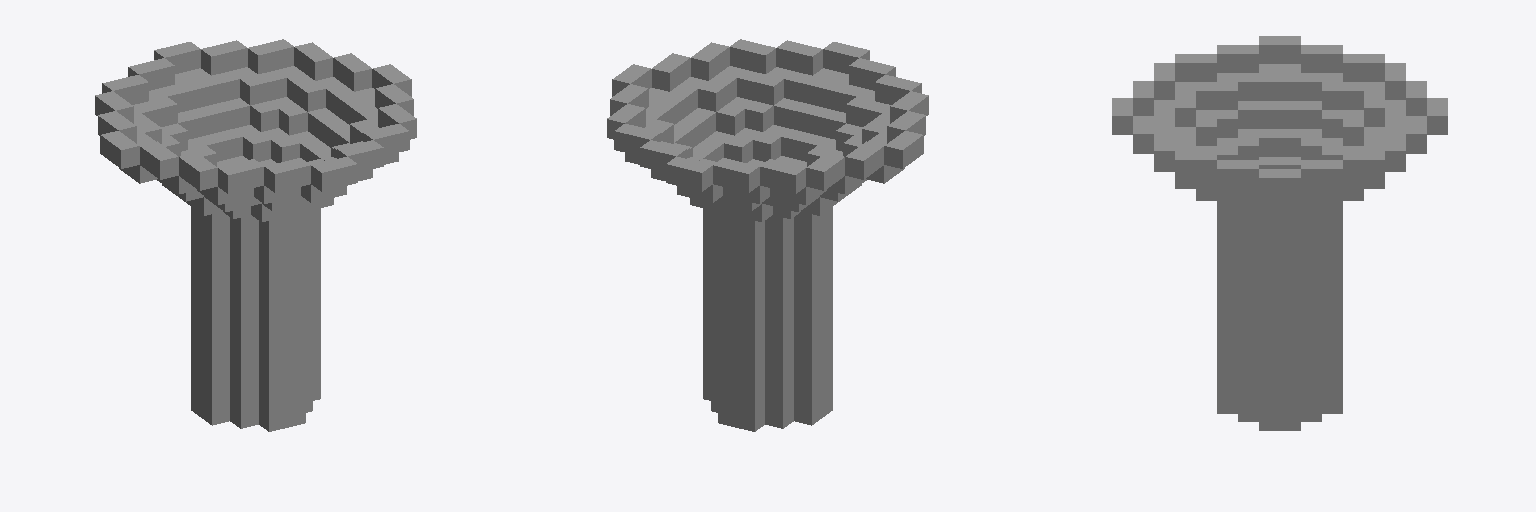
The model's file is st_pillar_base_inv_corr.obj.
3 views of the same model, side by side, from view 1: azimuth 30°, elevation 25°; view 2: azimuth 150°, elevation 25°; view 3: azimuth 270°, elevation 25° (orthographic).
Parts seen in each view (by area): view 1: st_pillar_base; view 2: st_pillar_base; view 3: st_pillar_base.
Part boxes in pixels (x1,y1,x2,y2): st_pillar_base: (95,39,416,431); st_pillar_base: (607,39,928,431); st_pillar_base: (1112,36,1447,430).
Size of the model in its own units: 1.02 by 0.9949 by 1.02.